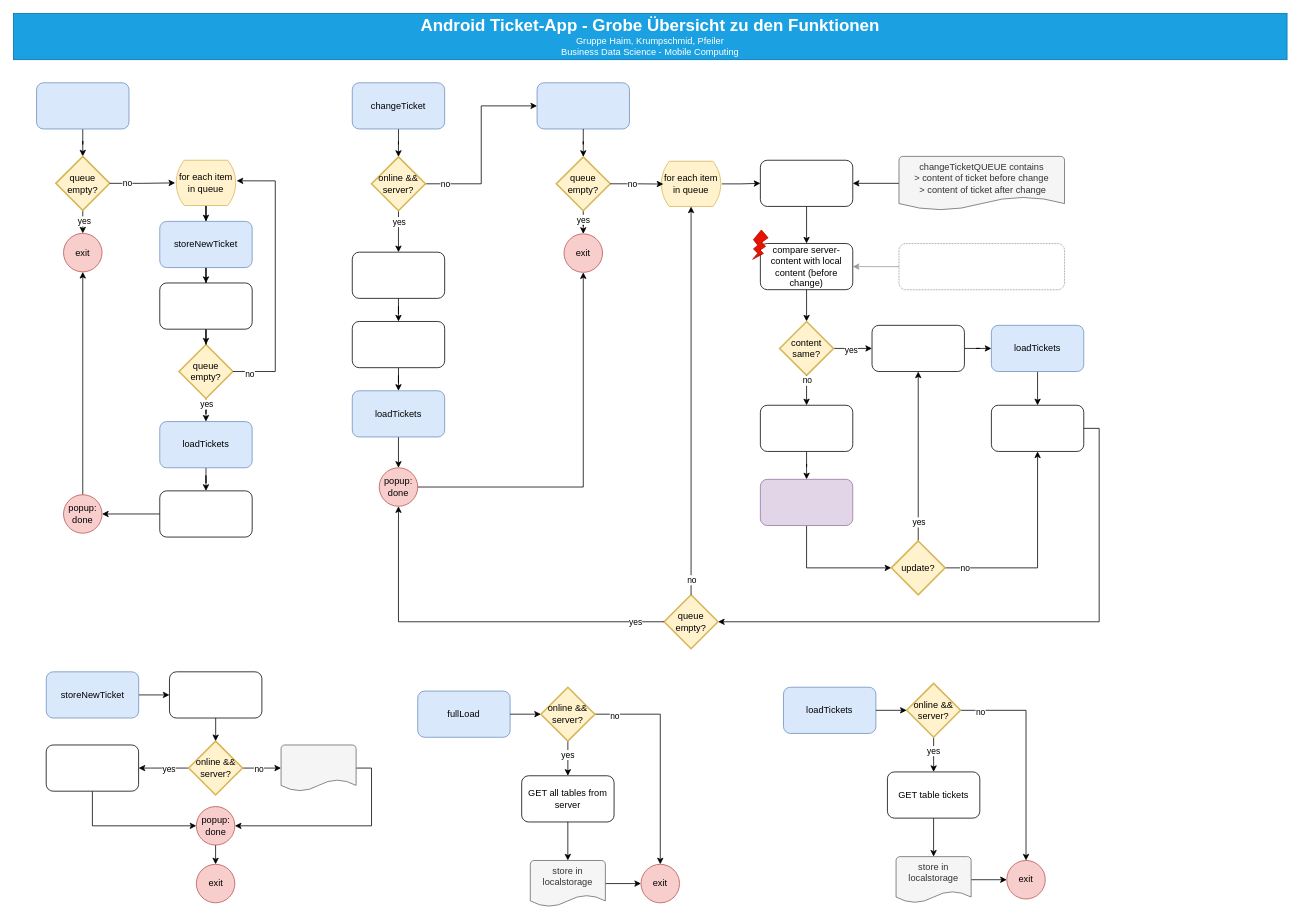
This 1301x920 diagram has some shape labels left out. The centre of each missing label's shape, as x and y in pixels:
add current date + status "open" to data: point (215, 694)
changeTicketsQueue: point (582, 105)
DELETE newTicketsQUEUE: point (205, 513)
display current content from server & from changeTicketQueue: point (806, 427)
GET current content of ticket from server: point (806, 182)
get data from fields: point (398, 274)
newTicketsQueue: point (82, 105)
PUSH: point (398, 344)
PUSH to server: point (92, 767)
PUT: point (917, 348)
REMOVE item from changeTicketsQueu: point (1037, 427)
remove item from queue: point (205, 305)
Solution 1) compare full content Solution 2) use server-side change-ID: point (981, 266)
store in newTicketsQueue: point (318, 767)
UI: users can alter the data from changeTicketQueue: point (806, 502)
